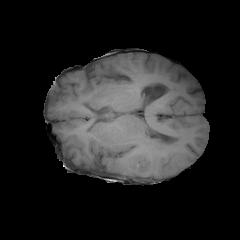glioma: (102, 105, 177, 171)
